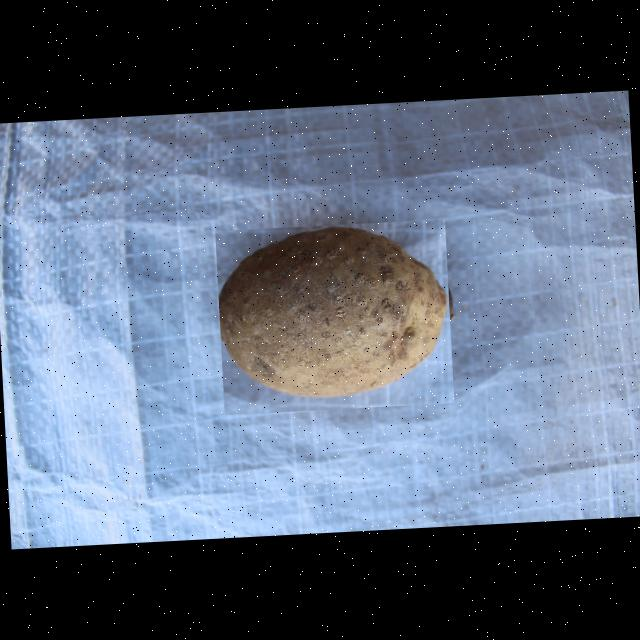Diseased-fungal potato: (216, 219, 454, 415)
